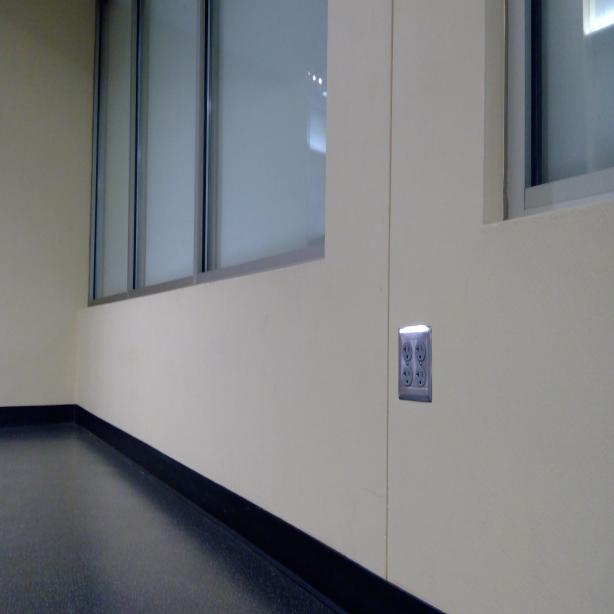typeb: (414, 342, 424, 361), (402, 368, 412, 385), (416, 368, 425, 386), (402, 346, 412, 361)
